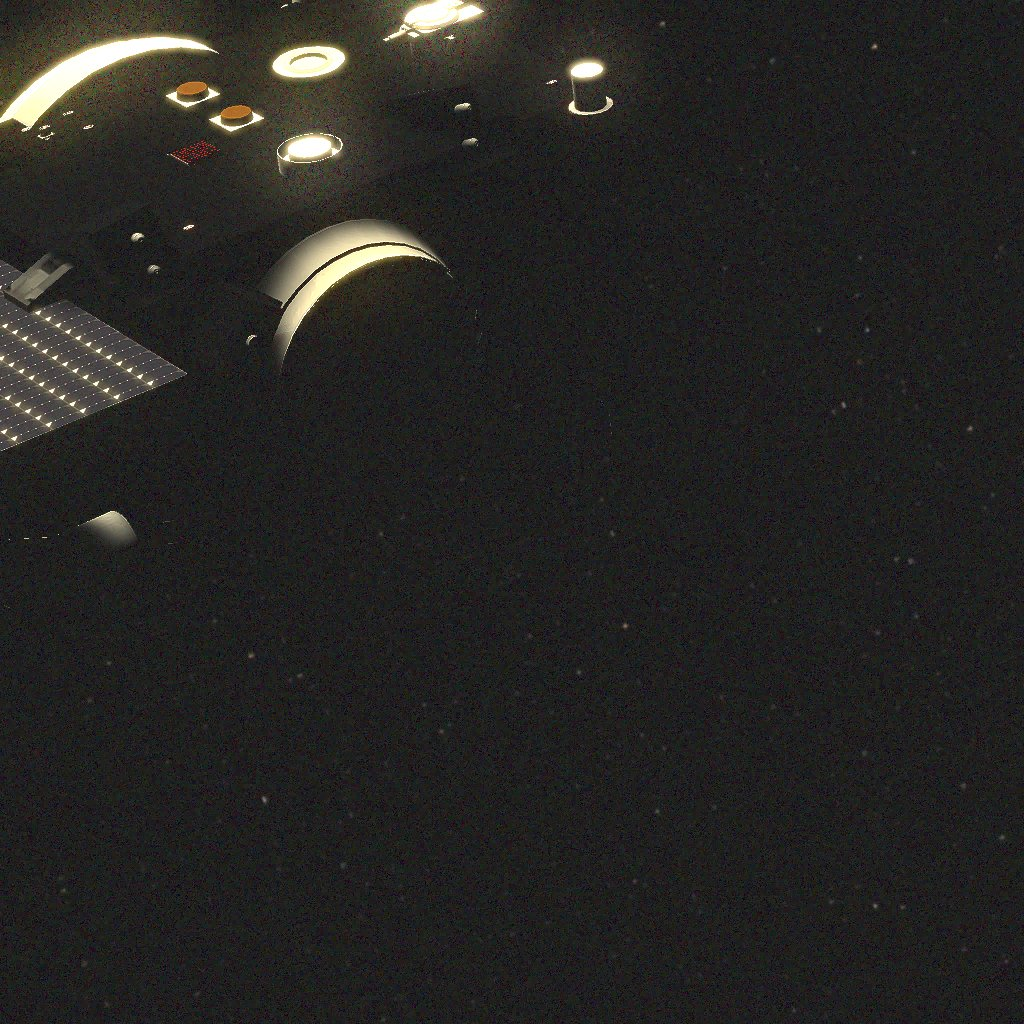proba_3_csc: (0, 0, 653, 608)
